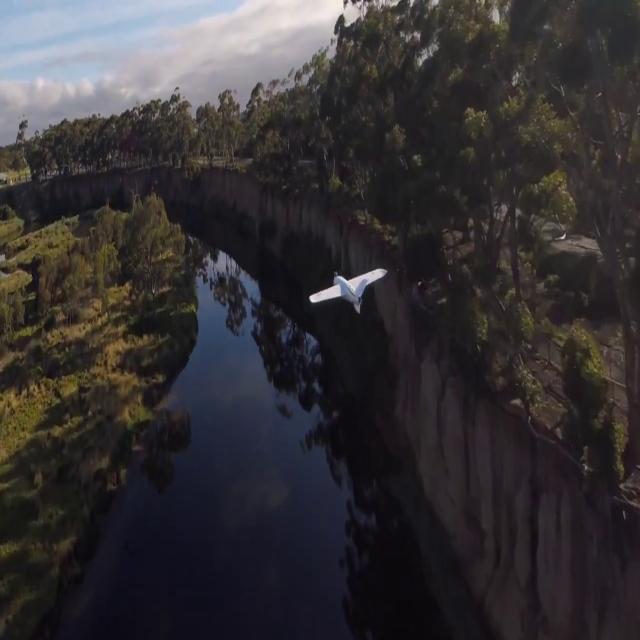iha: (341, 270, 355, 318)
